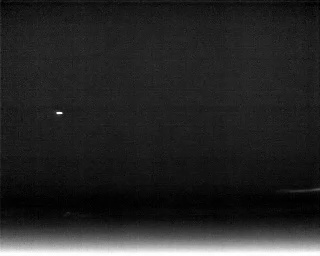AIRPLANE: (54, 109, 64, 117)
